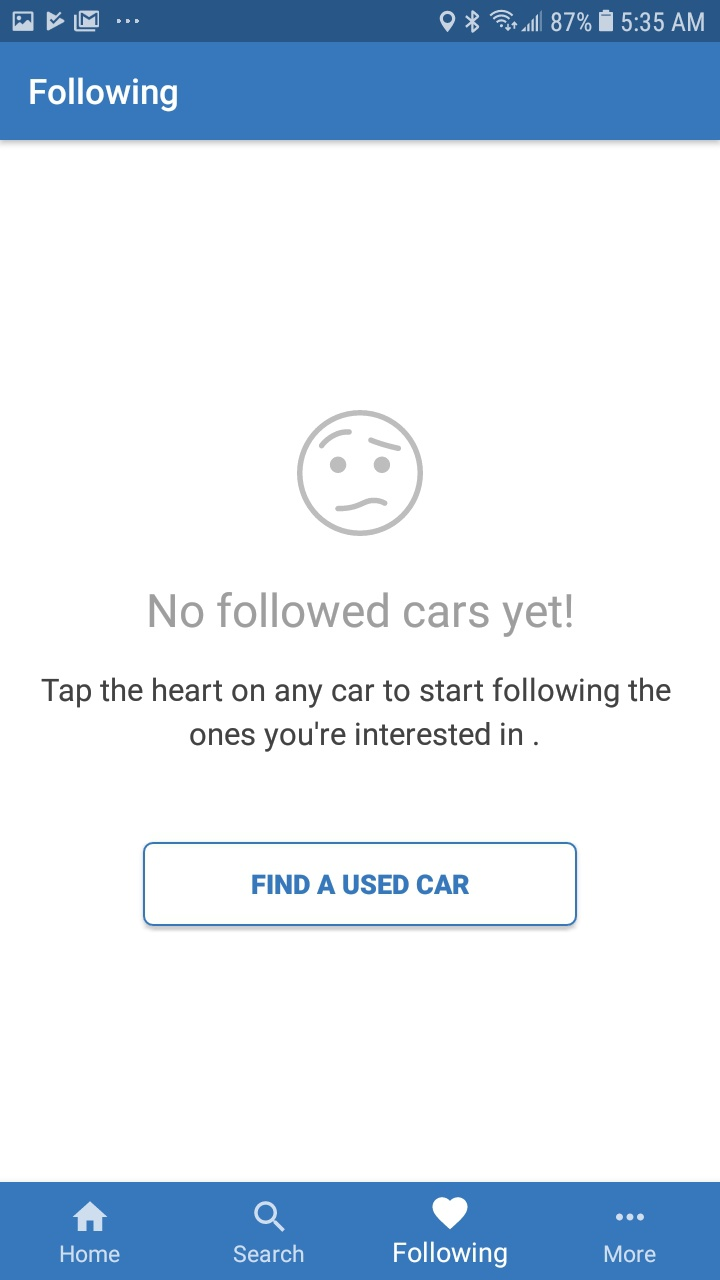Icon: (297, 410, 424, 537), (432, 1196, 469, 1230), (73, 1200, 108, 1232), (254, 1200, 286, 1233), (615, 1212, 645, 1222)
Text: (41, 676, 672, 753), (149, 592, 573, 638), (30, 77, 179, 114), (394, 1240, 508, 1269), (234, 1243, 305, 1263), (61, 1244, 121, 1263), (604, 1244, 656, 1263)
TextButton: (143, 842, 578, 927)
UpperTaskBar: (1, 1, 720, 43)
